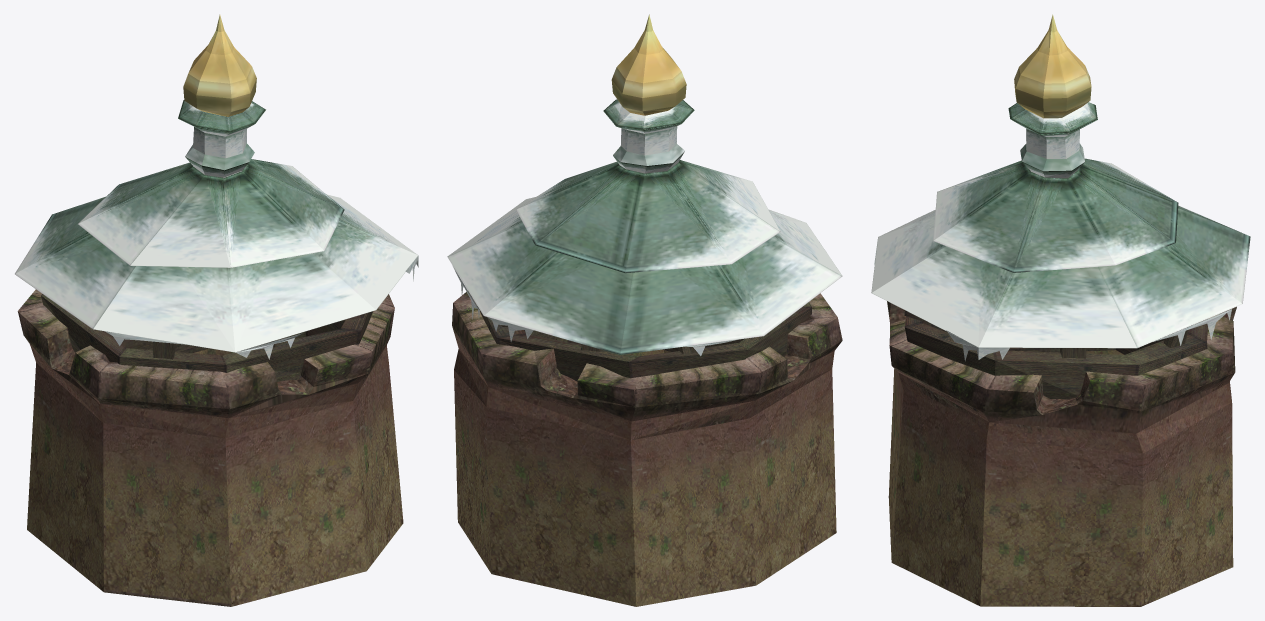
Rendered from C1SMBAH.obj.
The picture shows the model from 3 angles, left to right: view 1: azimuth 30°, elevation 25°; view 2: azimuth 150°, elevation 25°; view 3: azimuth 270°, elevation 25°; orthographic projection.
Visible parts, largest first — view 1: Node 0; view 2: Node 0; view 3: Node 0.
Boxes of the visible parts, bbox=[...] form: Node 0: bbox=[15, 14, 418, 606]; Node 0: bbox=[447, 14, 842, 606]; Node 0: bbox=[871, 14, 1250, 606].
Bounding box in the file's own units: 10.55 × 16.17 × 10.68.
5 materials, 5 textured.
